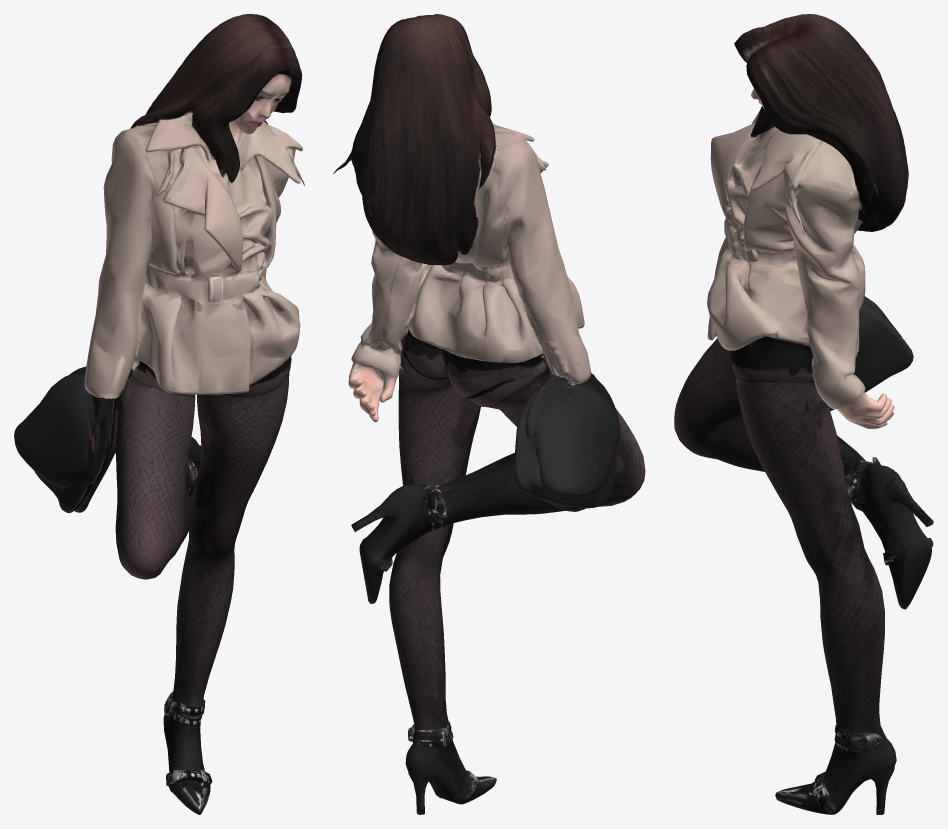
Rendered from UrbanTrench.glb.
The picture shows the model from 3 angles, left to right: view 1: azimuth 30°, elevation 25°; view 2: azimuth 150°, elevation 25°; view 3: azimuth 270°, elevation 25°; orthographic projection. The views are drawn at different scales.
Parts seen in each view (by area): view 1: UrbanTrench; view 2: UrbanTrench; view 3: UrbanTrench.
Part boxes in pixels (x1,y1,x2,y2): UrbanTrench: (14,14,304,814); UrbanTrench: (333,14,645,814); UrbanTrench: (674,14,933,814).
Bounding box in the file's own units: 0.5849 × 1.7 × 0.4899.
Materials: 1 (1 with a texture image).
